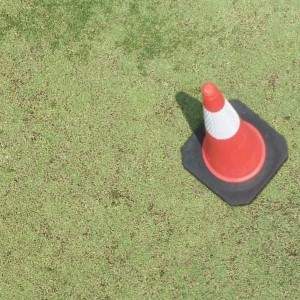traffic cone: (181, 82, 288, 205)
